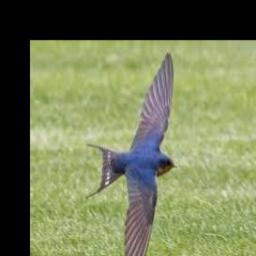Swallow: (86, 52, 177, 256)
